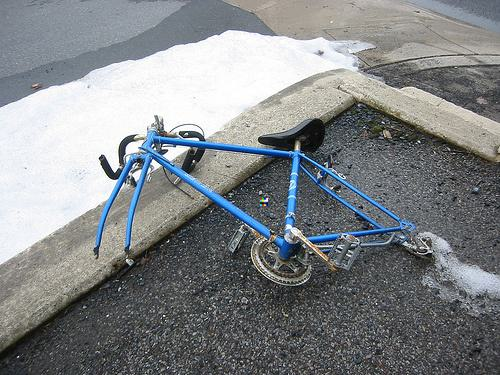car: (93, 115, 435, 289)
